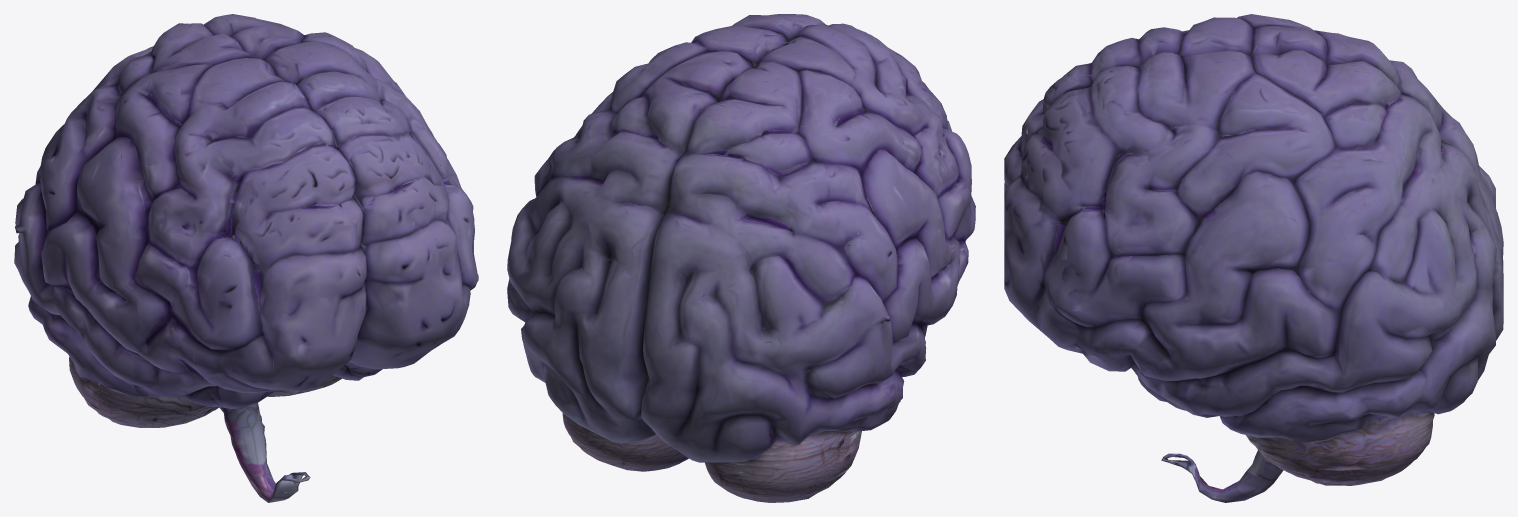
Rendered from brain_3D_model.glb.
The picture shows the model from 3 angles, left to right: view 1: azimuth 30°, elevation 25°; view 2: azimuth 150°, elevation 25°; view 3: azimuth 270°, elevation 25°; orthographic projection. The views are drawn at different scales.
Bounding box in the file's own units: 1.79 × 2.01 × 2.01.
Materials: 1 (1 with a texture image).
